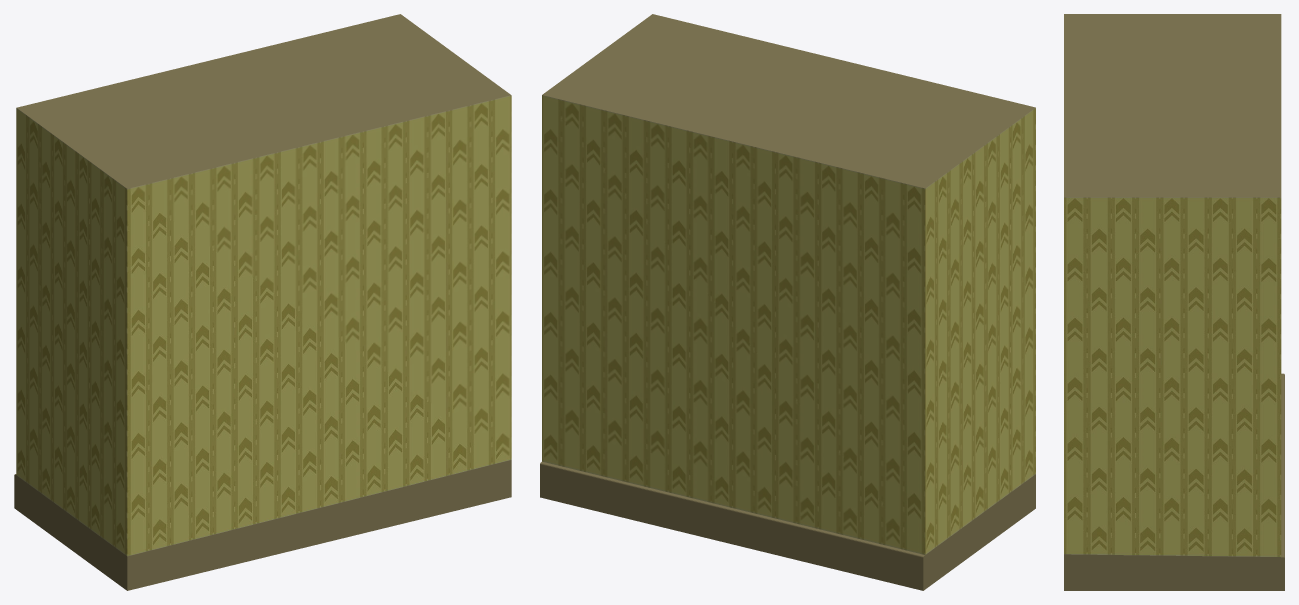
The model's file is Backrooms Tiles.fbx_Wall-Half.fbx.
3 views of the same model, side by side, from view 1: azimuth 30°, elevation 25°; view 2: azimuth 150°, elevation 25°; view 3: azimuth 270°, elevation 25° (orthographic). The views are drawn at different scales.
Parts seen in each view (by area): view 1: Wall-Half; view 2: Wall-Half; view 3: Wall-Half.
Boxes of the visible parts, bbox=[...] form: Wall-Half: bbox=[14, 14, 511, 590]; Wall-Half: bbox=[540, 14, 1035, 590]; Wall-Half: bbox=[1064, 14, 1284, 590].
Bounding box in the file's own units: 200 × 200 × 102.
